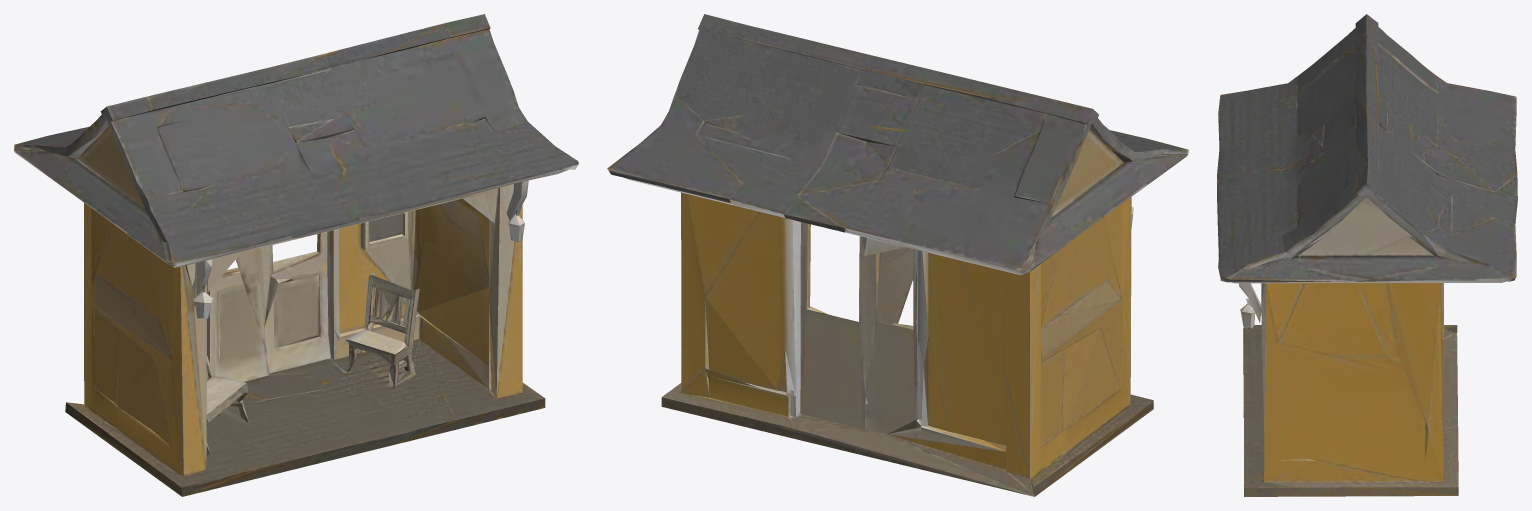
Rendered from ferjeskur.glb.
3 renders of one model, left to right at view 1: azimuth 30°, elevation 25°; view 2: azimuth 150°, elevation 25°; view 3: azimuth 270°, elevation 25°, orthographic. The views are drawn at different scales.
Parts seen in each view (by area): view 1: mesh_node; view 2: mesh_node; view 3: mesh_node.
Boxes of the visible parts, x1=… form: mesh_node: x1=14, y1=14, x2=578, y2=496; mesh_node: x1=607, y1=14, x2=1188, y2=496; mesh_node: x1=1217, y1=14, x2=1517, y2=496.
Size of the model in its own units: 1.9 by 1.51 by 1.31.
1 material, 1 textured.
